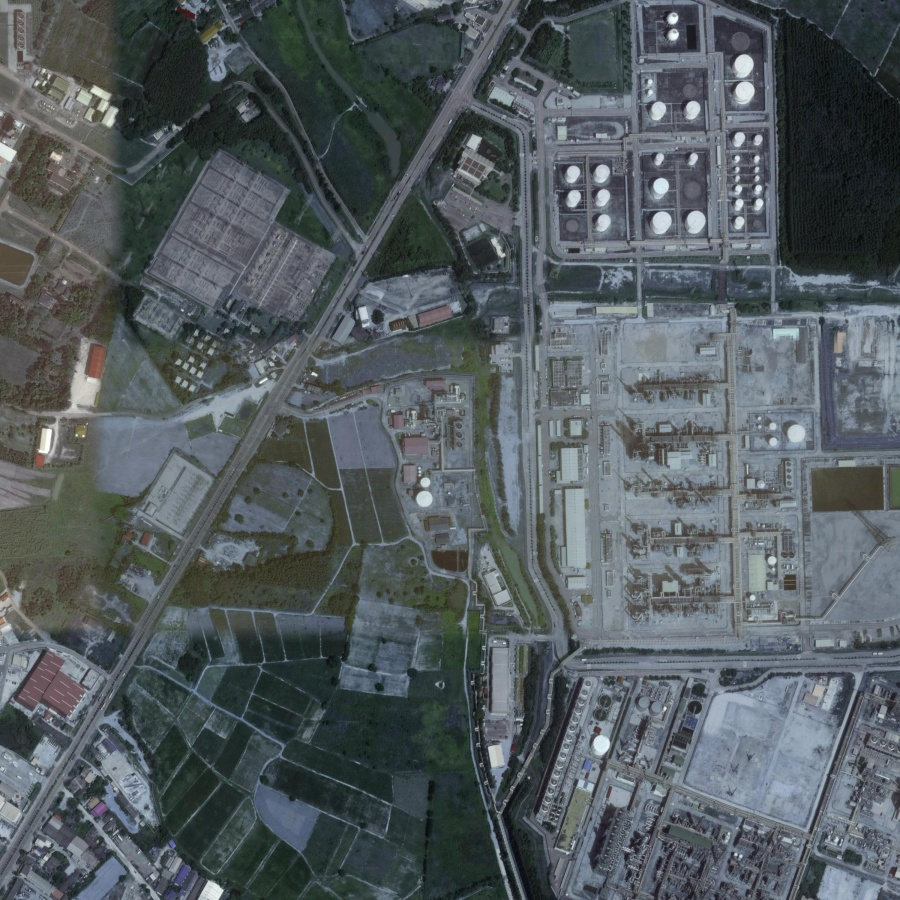PowerPlant: (413, 6, 816, 651)
